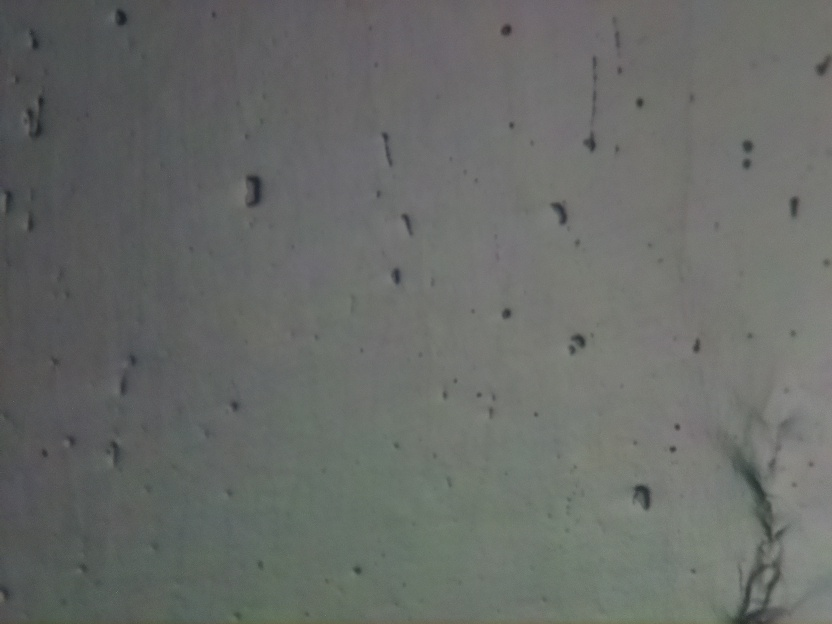crack: (737, 466, 783, 624)
